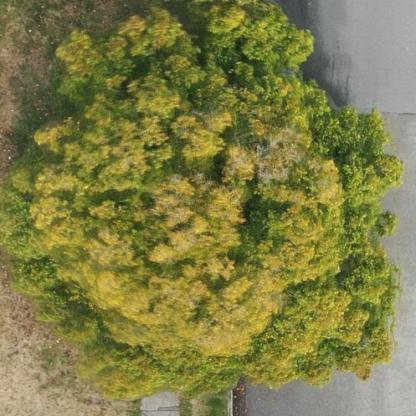Deciduous Tree: (3, 2, 414, 381)
